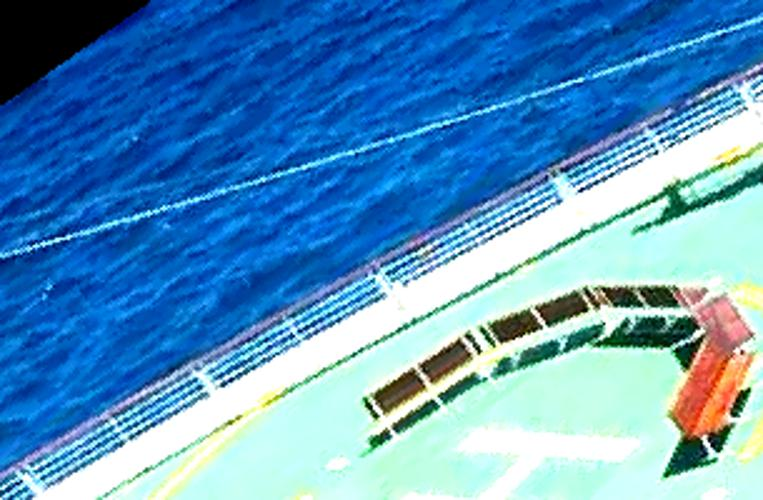Apron: (136, 269, 763, 500)
